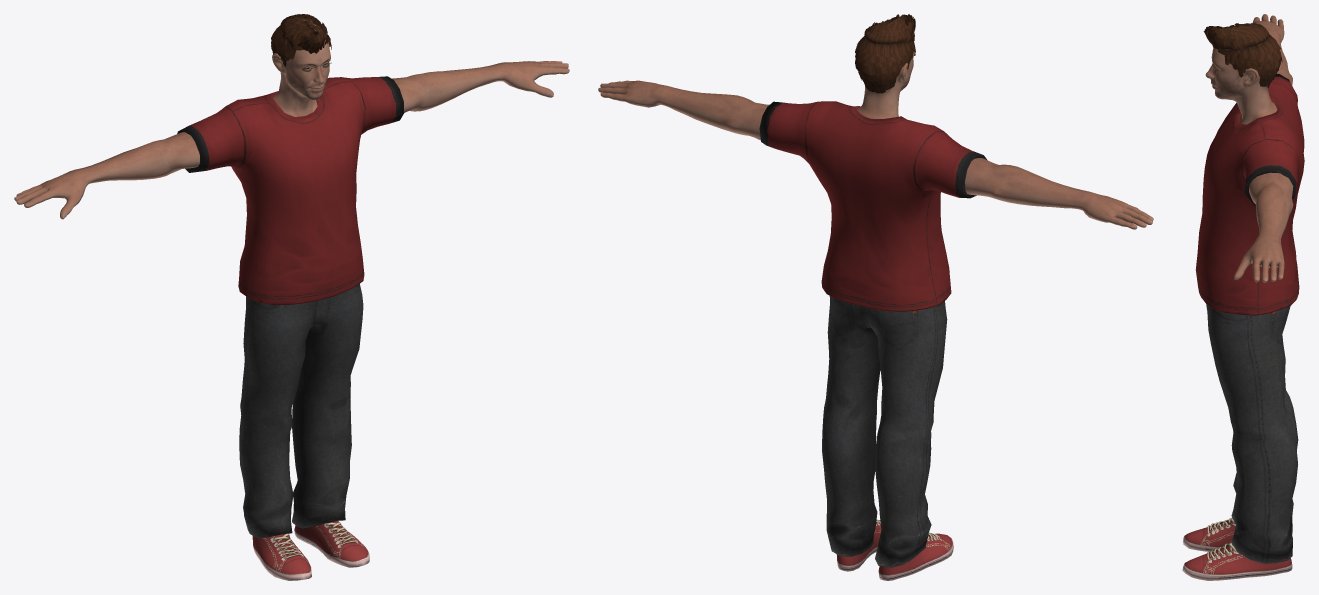
Rendered from boy1.obj.
3 renders of one model, left to right at view 1: azimuth 30°, elevation 25°; view 2: azimuth 150°, elevation 25°; view 3: azimuth 270°, elevation 25°, orthographic.
Visible parts, largest first — view 1: Tops, Bottoms, Body, Shoes, Hair; view 2: Tops, Bottoms, Body, Hair, Shoes; view 3: Bottoms, Tops, Body, Shoes, Hair.
Boxes of the visible parts, box(x1,y1,x2,y2) form: Tops: box(177, 76, 404, 305); Bottoms: box(239, 284, 363, 538); Body: box(14, 19, 569, 219); Shoes: box(252, 520, 369, 580); Hair: box(271, 14, 331, 66); Tops: box(759, 101, 986, 311); Bottoms: box(822, 296, 947, 567); Body: box(598, 44, 1153, 229); Hair: box(855, 14, 915, 93); Shoes: box(836, 519, 953, 580); Bottoms: box(1206, 303, 1298, 563); Tops: box(1195, 74, 1304, 315); Body: box(1205, 14, 1293, 282); Shoes: box(1182, 517, 1292, 580); Hair: box(1203, 23, 1282, 87).
Size of the model in its own units: 194 by 180 by 37.33.
Materials: 5 (5 with a texture image).
